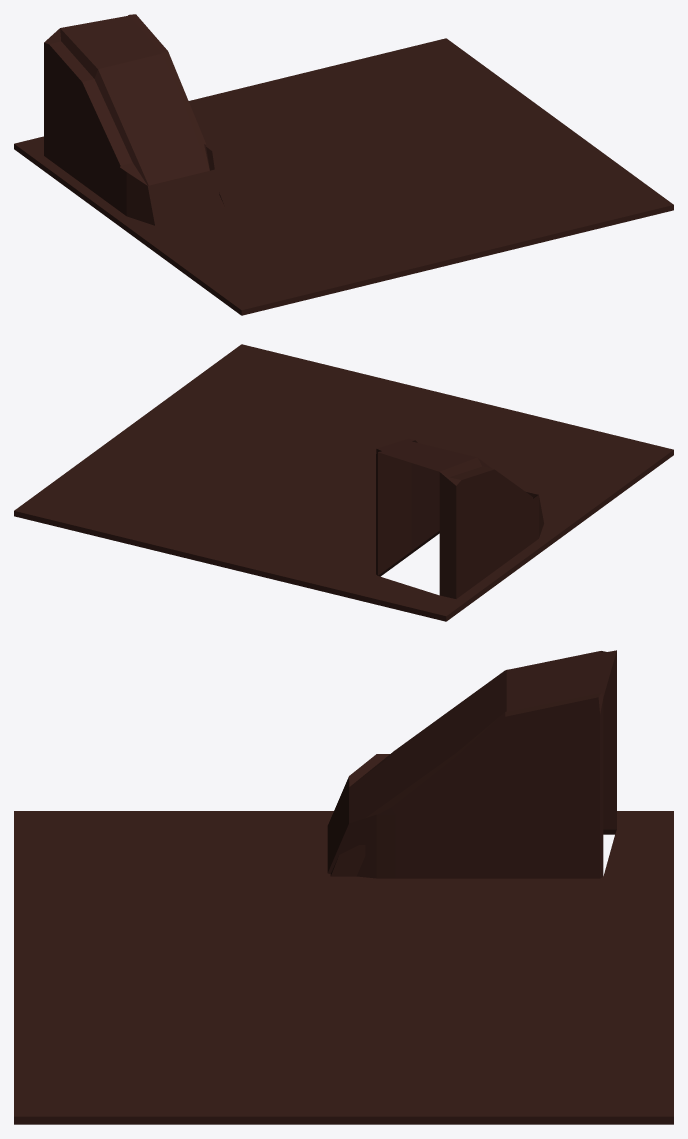
The model's file is M_CeilingUp.fbx.
The picture shows the model from 3 angles, top to bottom: view 1: azimuth 30°, elevation 25°; view 2: azimuth 150°, elevation 25°; view 3: azimuth 270°, elevation 25°; orthographic projection. The views are drawn at different scales.
Visible parts, largest first — view 1: Ceiling_Down; view 2: Ceiling_Down; view 3: Ceiling_Down.
Boxes of the visible parts, box(x1,y1,x2,y2) form: Ceiling_Down: box(14, 14, 673, 315); Ceiling_Down: box(14, 344, 673, 621); Ceiling_Down: box(14, 650, 673, 1124).
Size of the model in its own units: 833 by 241 by 760.
